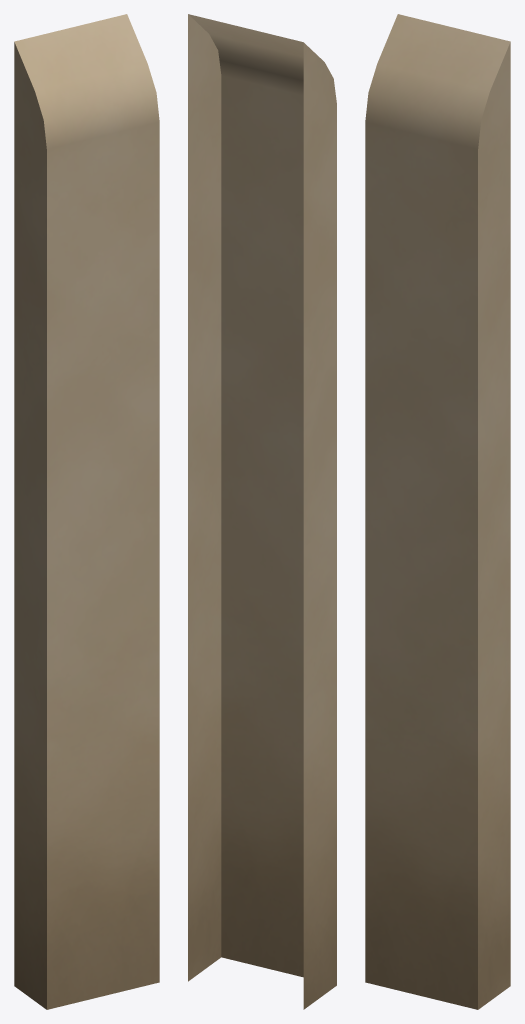
File: WallPilaster01.fbx
3 views of the same model, side by side, from view 1: azimuth 30°, elevation 25°; view 2: azimuth 150°, elevation 25°; view 3: azimuth 330°, elevation 25° (orthographic). The views are drawn at different scales.
Parts seen in each view (by area): view 1: WallPilaster01; view 2: WallPilaster01; view 3: WallPilaster01.
Boxes of the visible parts, x1,y1,x2,y2 form: WallPilaster01: [14, 14, 159, 1009]; WallPilaster01: [188, 14, 336, 1009]; WallPilaster01: [365, 14, 510, 1009].
Size of the model in its own units: 0.6096 by 4.88 by 0.3048.
